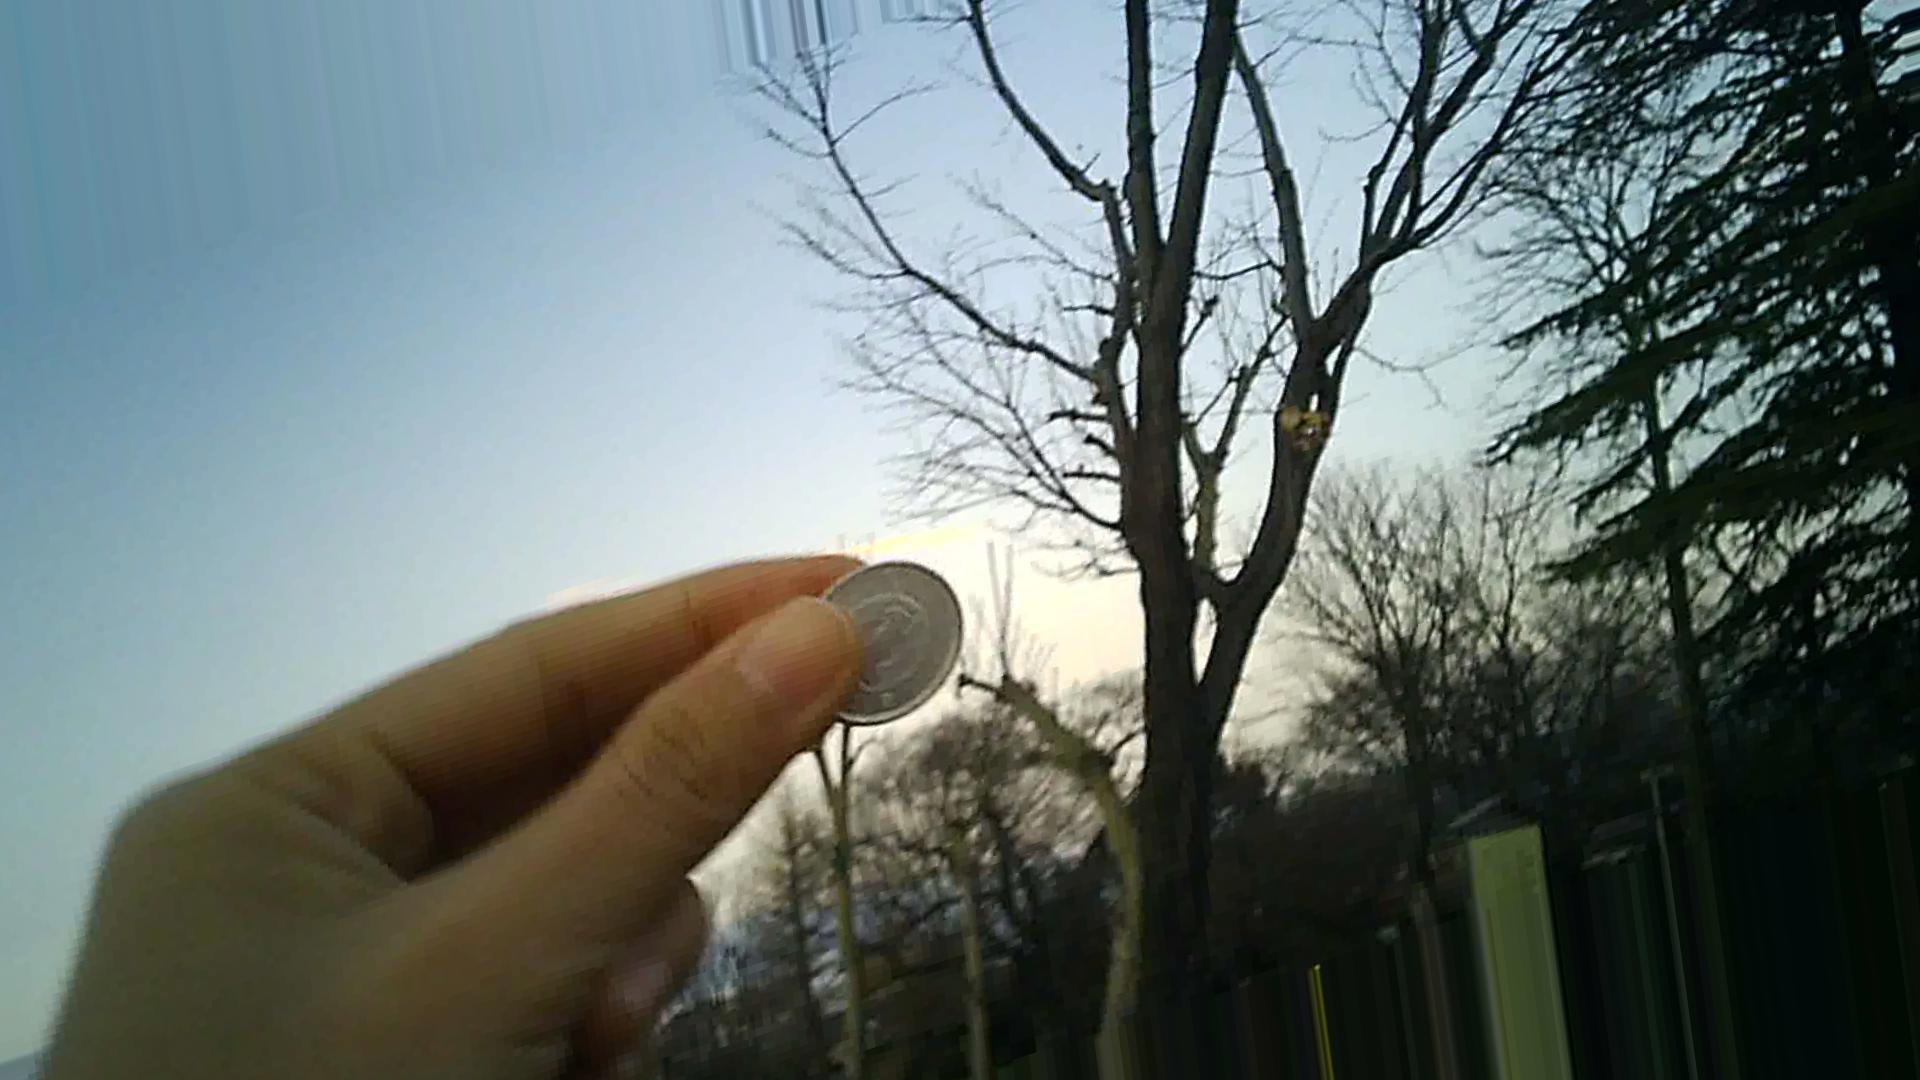1 Yen: (790, 559, 973, 728)
